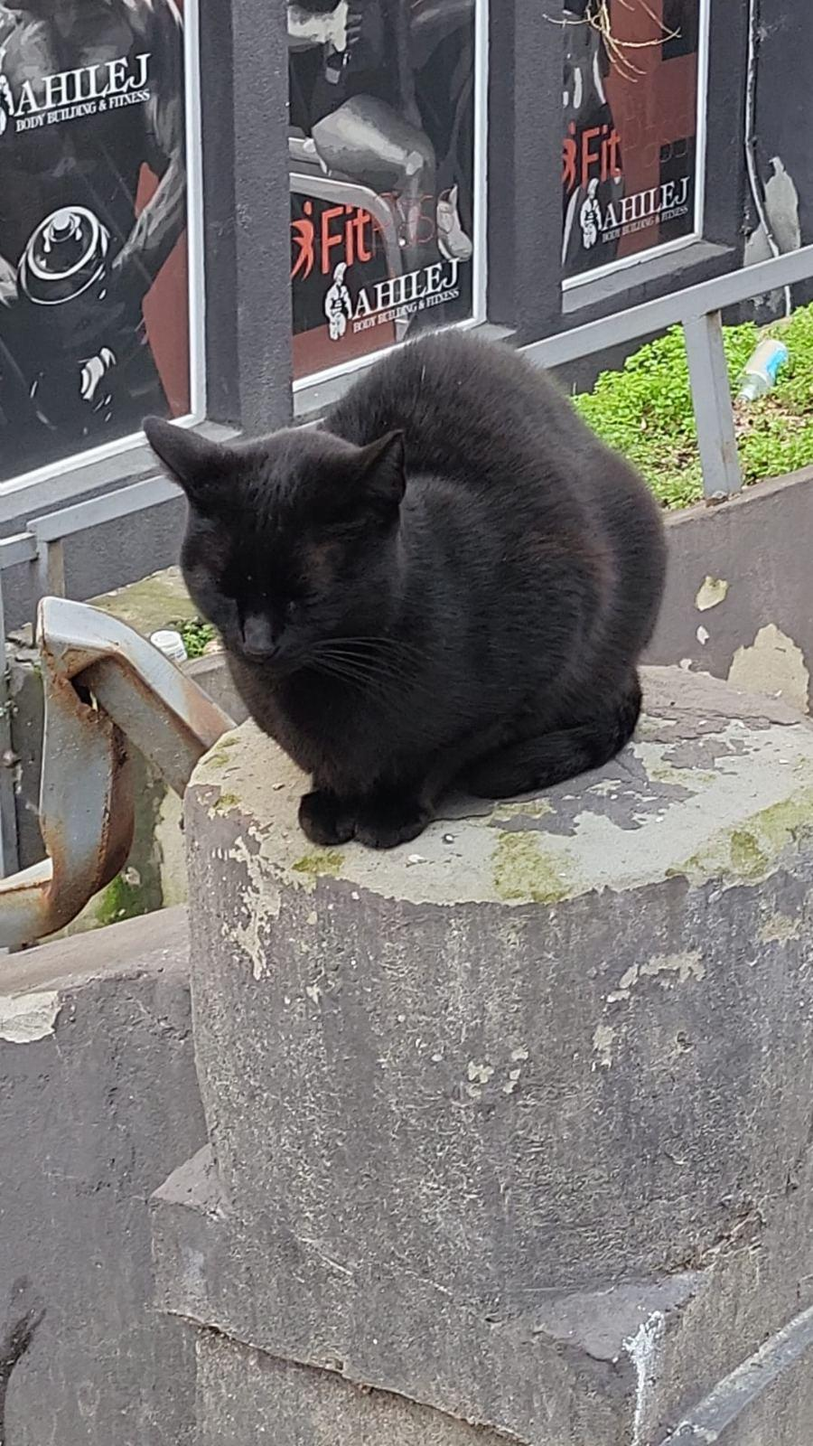macka: (142, 326, 674, 847)
